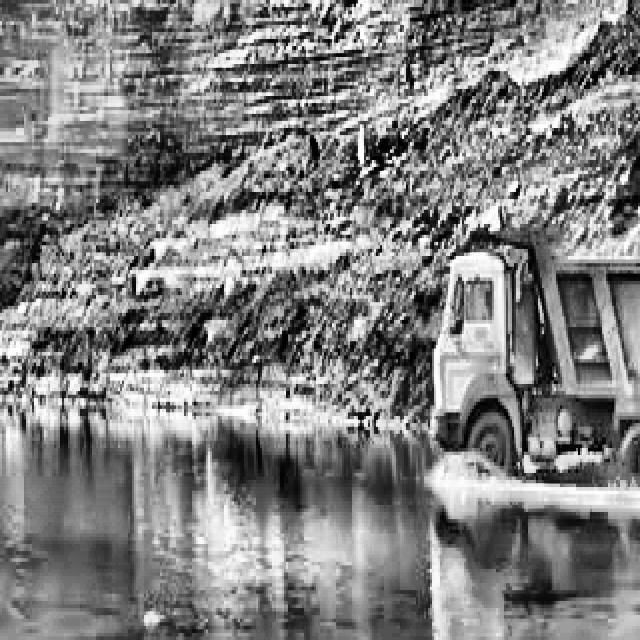dump_truck: (420, 213, 640, 487)
